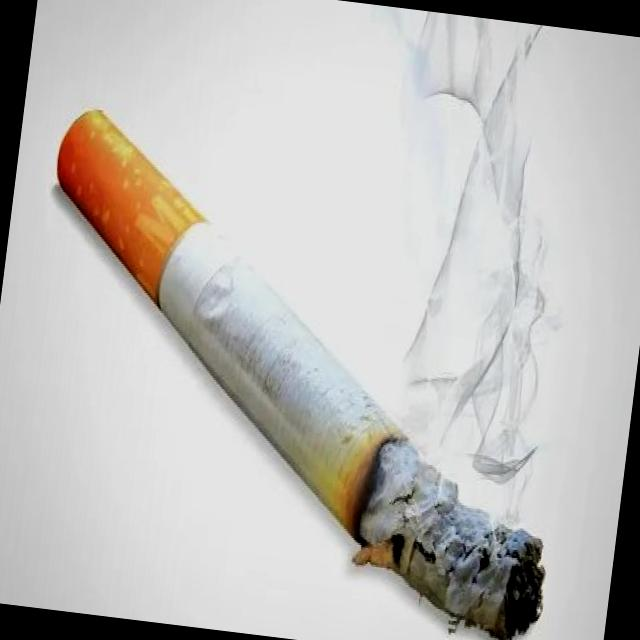smoke: (5, 99, 597, 640)
